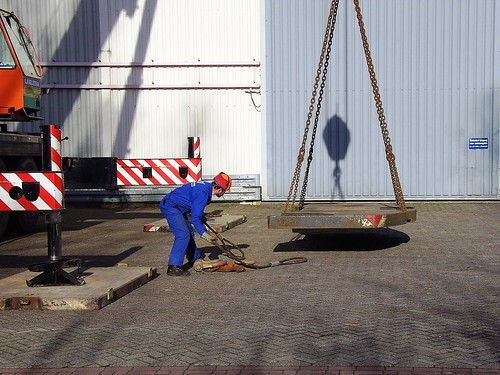person hardhat: (158, 173, 235, 278)
